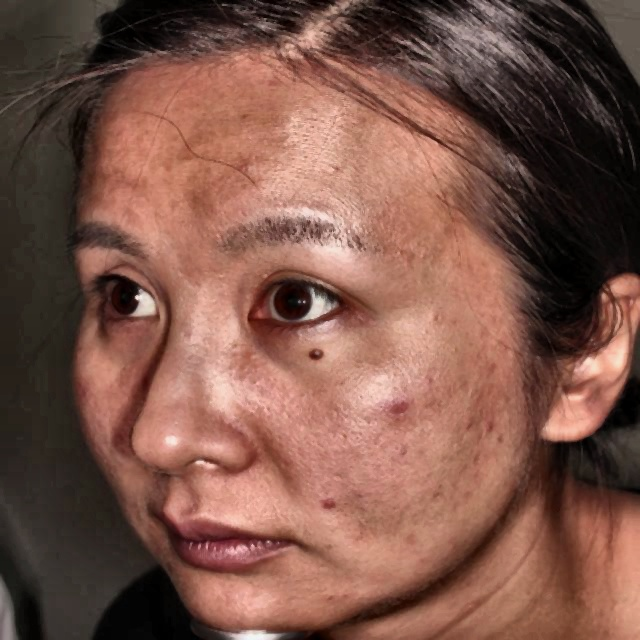comedone: (473, 413, 504, 439), (381, 396, 411, 420), (309, 496, 340, 515)
